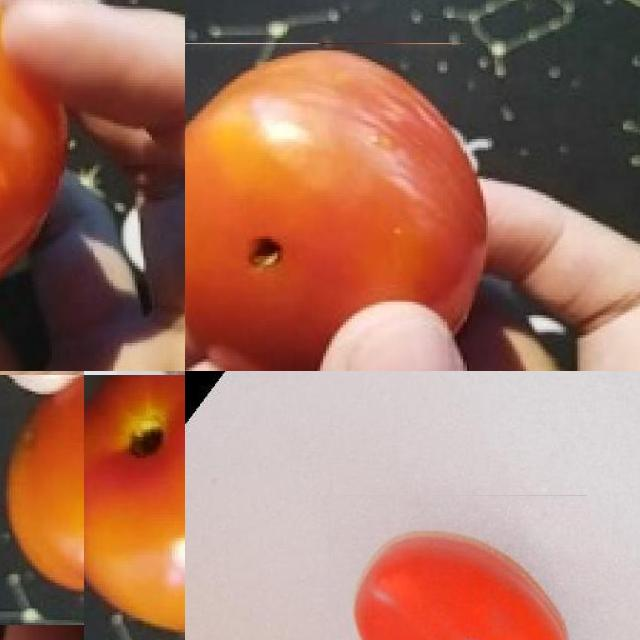0: (329, 495, 587, 640)
Fresh Tomato: (84, 375, 185, 640), (0, 375, 84, 624)
Rotten Tomato: (185, 43, 489, 371), (0, 0, 71, 331)
